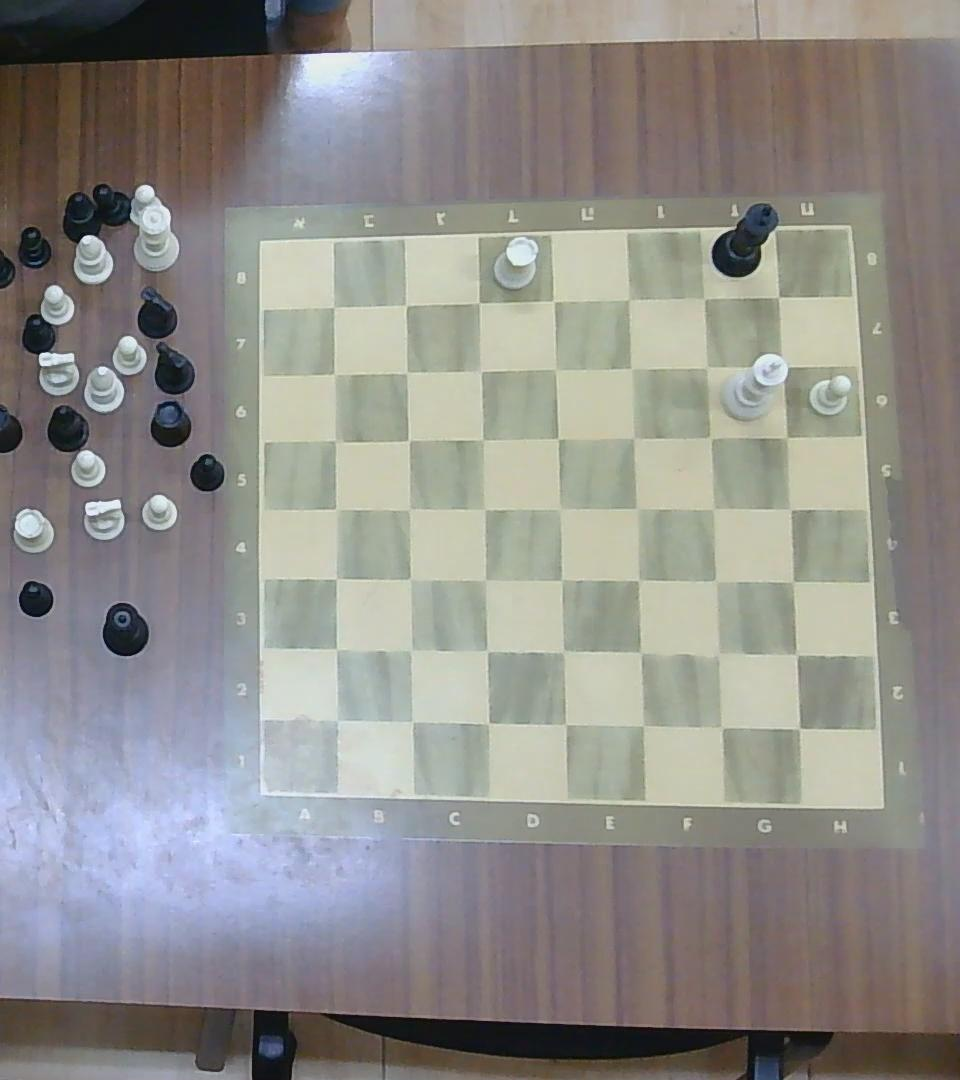xcorner: (702, 636, 734, 669), (621, 562, 653, 595), (471, 705, 502, 739), (548, 707, 579, 740), (704, 710, 735, 743), (626, 707, 657, 740), (625, 634, 655, 668), (783, 710, 813, 744), (781, 638, 812, 670), (699, 564, 730, 596), (320, 702, 351, 734), (775, 492, 806, 523), (776, 566, 807, 597), (548, 635, 578, 667), (395, 704, 425, 736), (538, 284, 568, 316), (547, 564, 577, 596), (464, 285, 493, 318), (471, 634, 501, 665), (465, 352, 495, 383), (698, 492, 728, 523), (541, 352, 571, 383), (616, 352, 646, 383), (319, 357, 349, 388), (768, 349, 799, 379), (391, 287, 420, 319), (317, 290, 347, 320), (621, 494, 651, 524), (470, 563, 499, 594), (395, 634, 424, 665), (321, 563, 350, 594), (619, 421, 648, 452), (394, 494, 423, 524), (321, 634, 350, 664), (543, 423, 572, 453), (615, 283, 644, 313), (393, 424, 423, 453), (771, 422, 801, 451), (395, 563, 423, 594), (545, 492, 573, 523), (392, 356, 421, 385), (697, 422, 726, 451), (693, 351, 722, 380), (470, 494, 498, 524), (467, 423, 495, 453), (322, 493, 350, 522), (691, 282, 719, 311), (765, 282, 793, 311), (321, 426, 349, 454)
